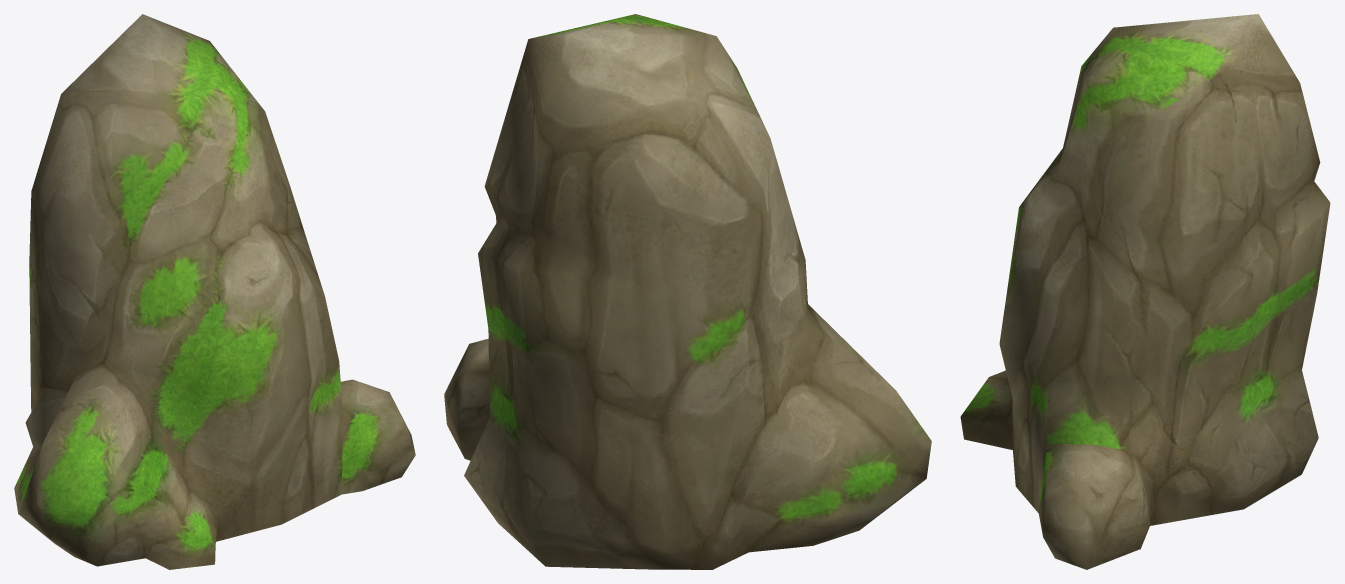
File: stone43.FBX
3 views of the same model, side by side, from view 1: azimuth 30°, elevation 25°; view 2: azimuth 150°, elevation 25°; view 3: azimuth 270°, elevation 25° (orthographic). The views are drawn at different scales.
Parts seen in each view (by area): view 1: stone43; view 2: stone43; view 3: stone43.
Boxes of the visible parts, left/top/right/bottom form: stone43: left=14, top=14, right=415, bottom=569; stone43: left=444, top=14, right=931, bottom=569; stone43: left=960, top=14, right=1330, bottom=569.
Bounding box in the file's own units: 355 × 376 × 274.
